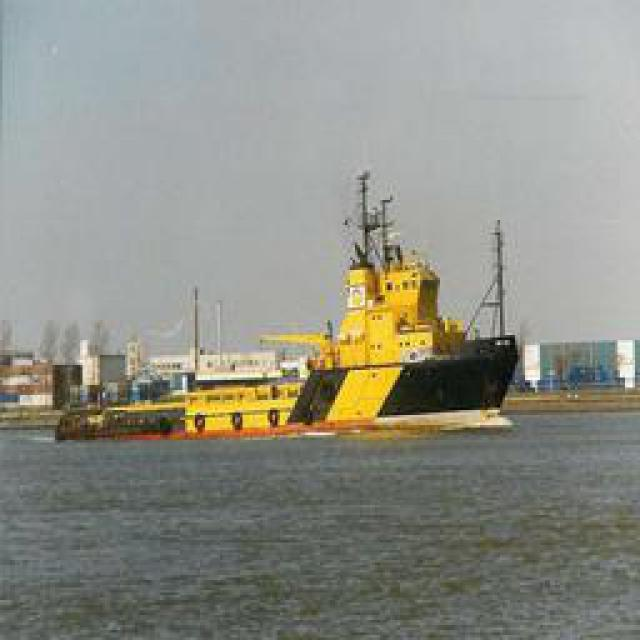Ship: (257, 155, 525, 430)
